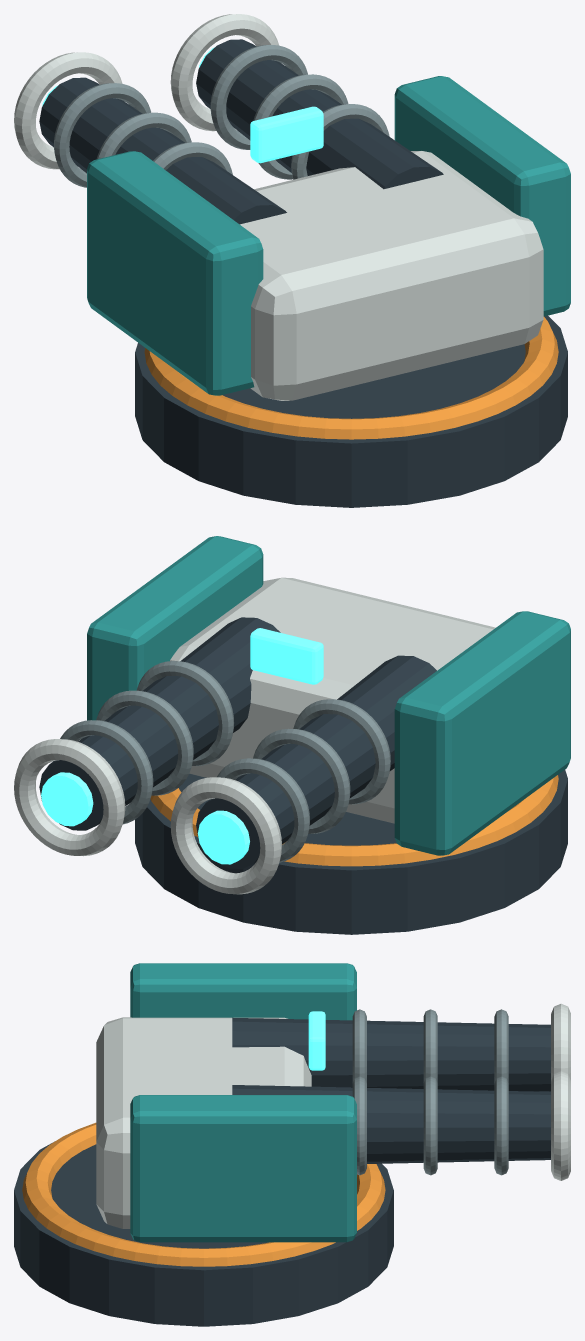
File: pulse_turret.glb
3 renders of one model, top to bottom at view 1: azimuth 30°, elevation 25°; view 2: azimuth 150°, elevation 25°; view 3: azimuth 270°, elevation 25°, orthographic. The views are drawn at different scales.
Parts seen in each view (by area): view 1: Yaw_mesh, pulse_turret_mesh; view 2: Yaw_mesh, pulse_turret_mesh; view 3: Yaw_mesh, pulse_turret_mesh.
Boxes of the visible parts, x1,y1,x2,y2 form: Yaw_mesh: (14, 14, 570, 400); pulse_turret_mesh: (135, 315, 567, 507); Yaw_mesh: (14, 536, 570, 894); pulse_turret_mesh: (135, 769, 567, 934); Yaw_mesh: (96, 963, 570, 1242); pulse_turret_mesh: (14, 1122, 393, 1326).
Bounding box in the file's own units: 1.34 × 0.865 × 1.97.
